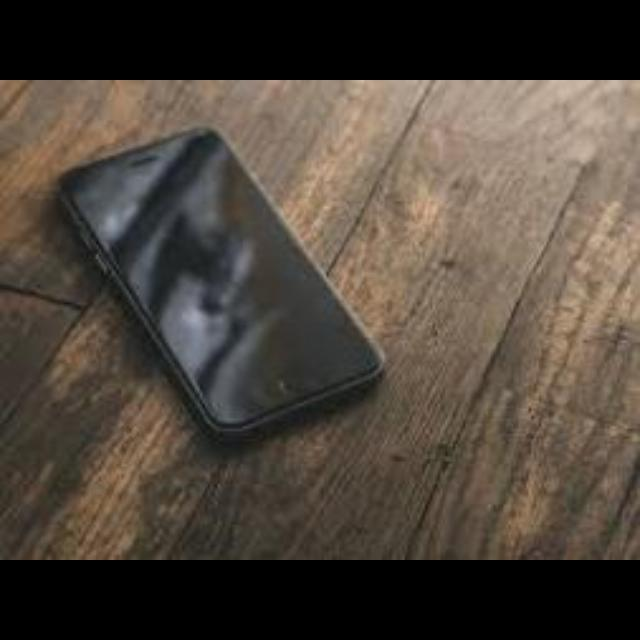phone: (40, 117, 425, 449)
